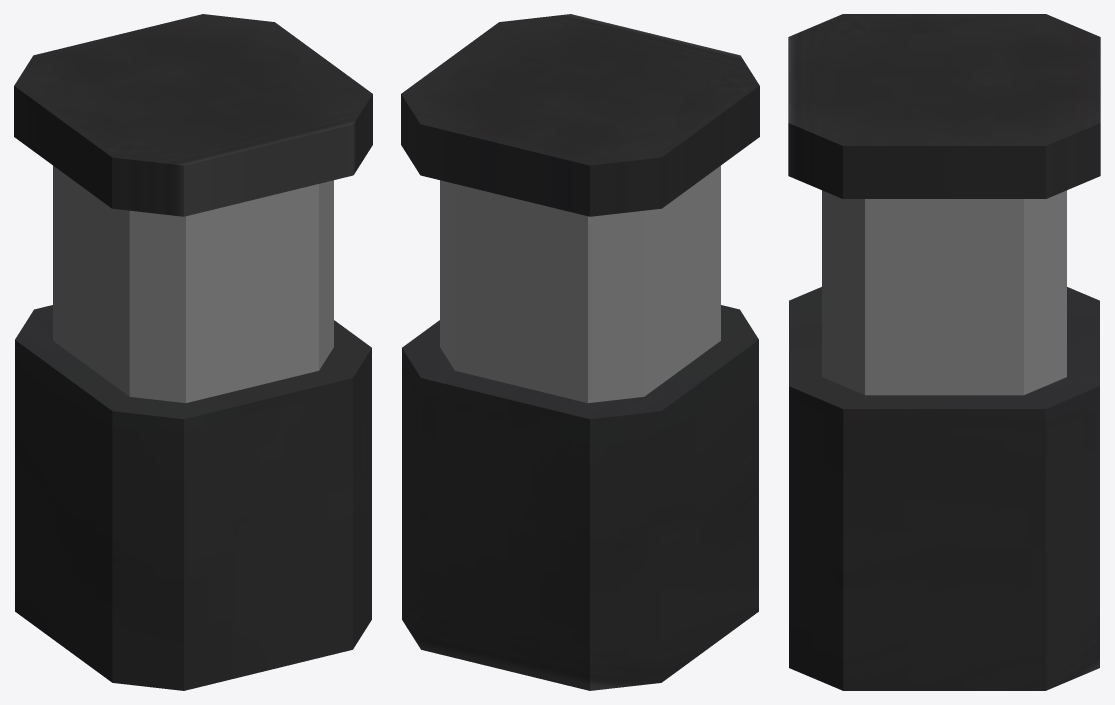
File: Etalase.fbx
3 views of the same model, side by side, from view 1: azimuth 30°, elevation 25°; view 2: azimuth 150°, elevation 25°; view 3: azimuth 270°, elevation 25° (orthographic). The views are drawn at different scales.
Parts seen in each view (by area): view 1: Cube.039; view 2: Cube.039; view 3: Cube.039.
Boxes of the visible parts, bbox=[...] form: Cube.039: bbox=[14, 14, 372, 690]; Cube.039: bbox=[401, 14, 759, 690]; Cube.039: bbox=[788, 14, 1100, 690].
Size of the model in its own units: 308 by 594 by 308.
Materials: 2 (1 with a texture image).
